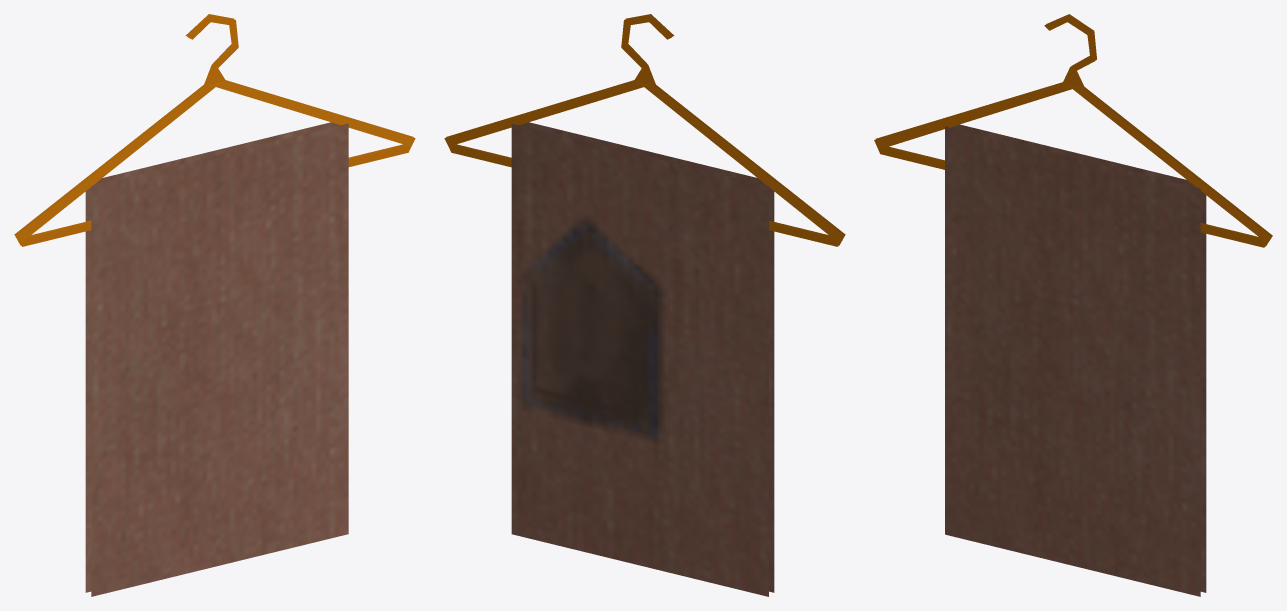
File: Pants_1.fbx
3 renders of one model, left to right at view 1: azimuth 30°, elevation 25°; view 2: azimuth 150°, elevation 25°; view 3: azimuth 330°, elevation 25°, orthographic.
Visible parts, largest first — view 1: Maya_File_Assets:TexturedAssetsCurrent:EliesAsstsTextures:po; view 2: Maya_File_Assets:TexturedAssetsCurrent:EliesAsstsTextures:po; view 3: Maya_File_Assets:TexturedAssetsCurrent:EliesAsstsTextures:po.
Part boxes in pixels (<box>): Maya_File_Assets:TexturedAssetsCurrent:EliesAsstsTextures:po: <box>14,14,415,596</box>; Maya_File_Assets:TexturedAssetsCurrent:EliesAsstsTextures:po: <box>444,14,845,596</box>; Maya_File_Assets:TexturedAssetsCurrent:EliesAsstsTextures:po: <box>874,14,1272,596</box>.
Size of the model in its own units: 0.6011 by 0.7913 by 0.0144.
